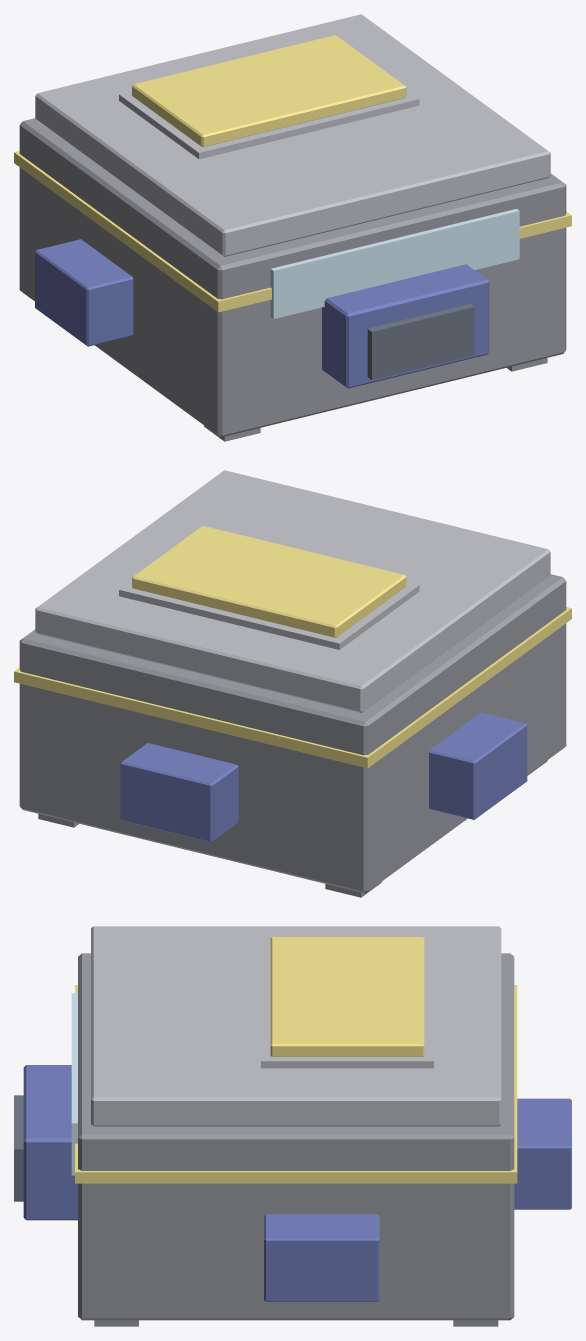
File: address_sorter_01.glb
3 views of the same model, one above another, from view 1: azimuth 30°, elevation 25°; view 2: azimuth 150°, elevation 25°; view 3: azimuth 270°, elevation 25° (orthographic). The views are drawn at different scales.
Parts seen in each view (by area): view 1: address_sorter_01; view 2: address_sorter_01; view 3: address_sorter_01.
Part boxes in pixels (x1=…): address_sorter_01: x1=14, y1=14, x2=571, y2=441; address_sorter_01: x1=14, y1=470, x2=571, y2=897; address_sorter_01: x1=14, y1=926, x2=571, y2=1326.
Bounding box in the file's own units: 4.3 × 2.16 × 4.35.
